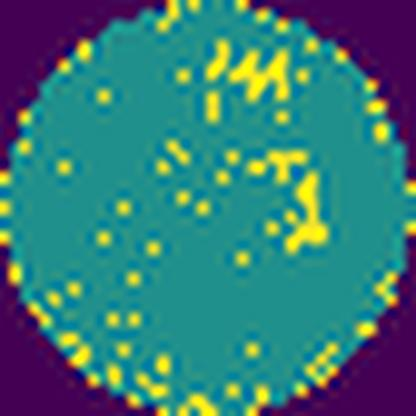Loc: (284, 173, 332, 250), (228, 48, 291, 100)
